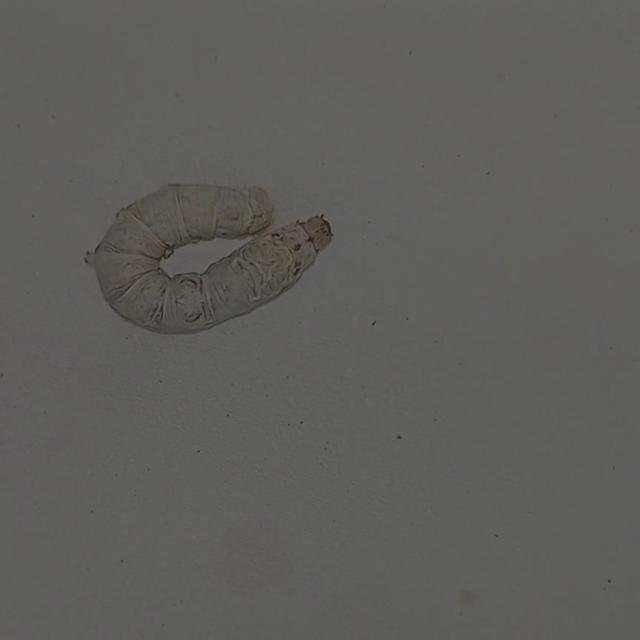Healthy: (74, 164, 340, 343)
